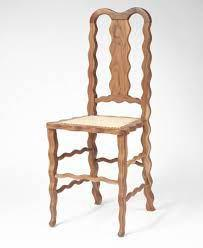chair: (29, 6, 171, 239)
